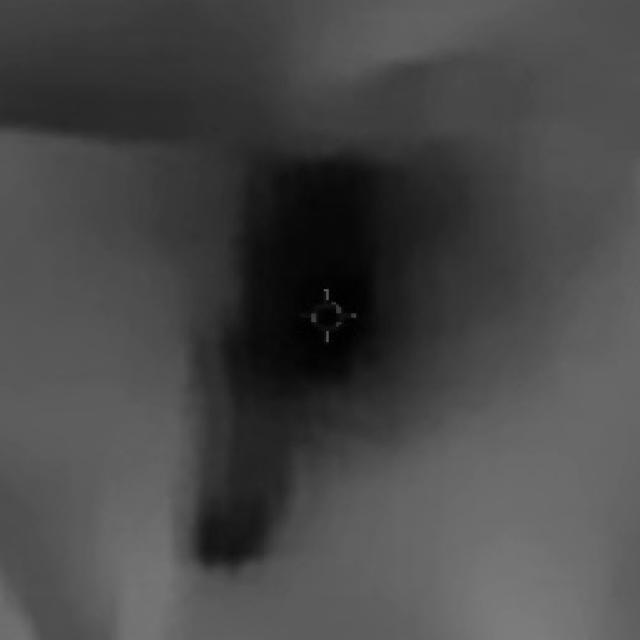Weapon: (68, 54, 634, 590)
